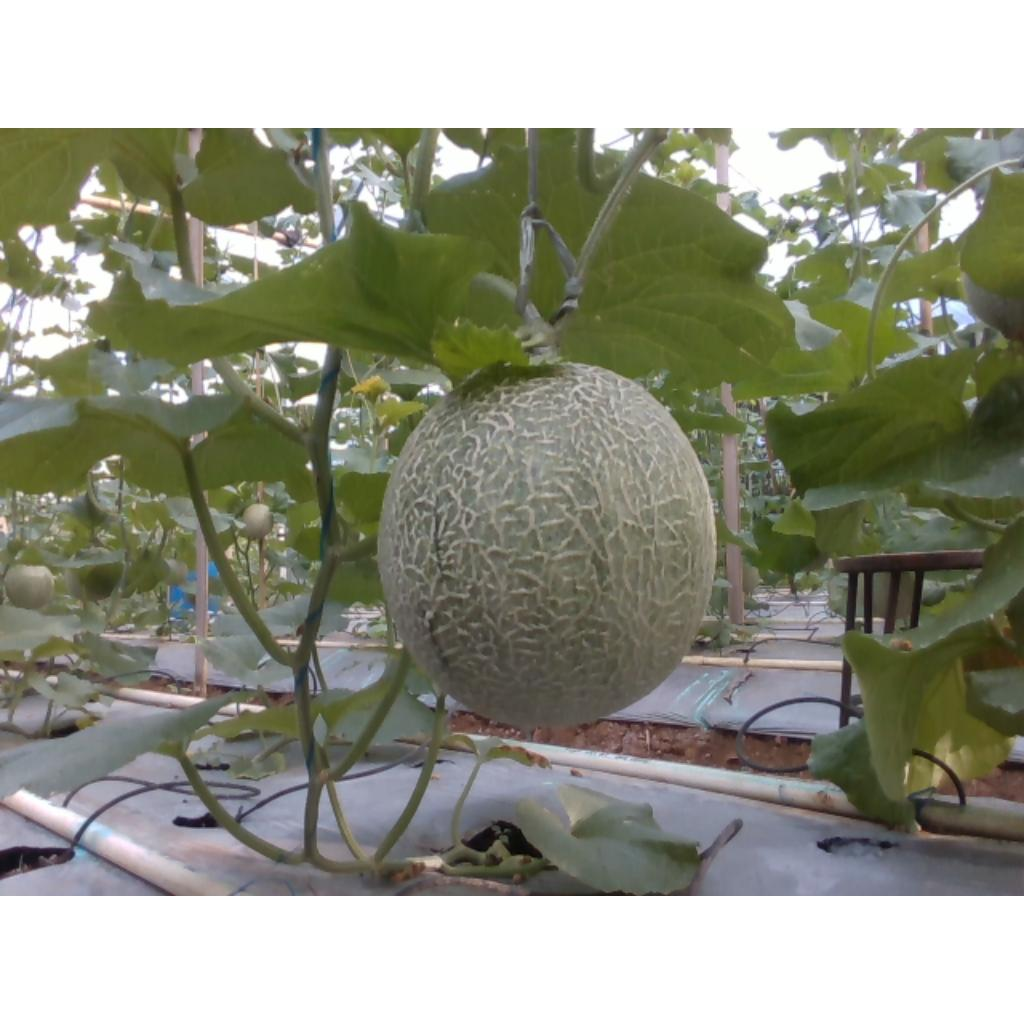melon: (379, 363, 717, 727)
